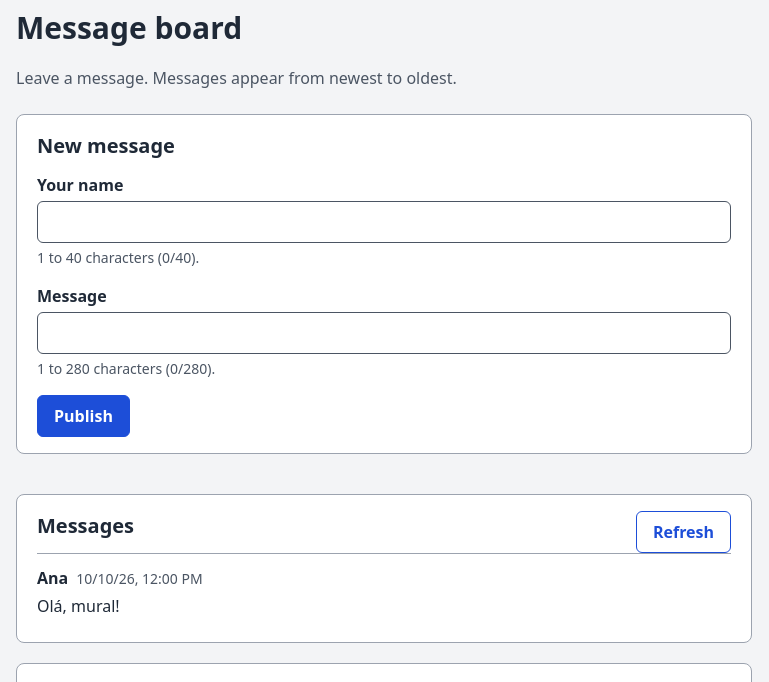
it: App › publishes a message and announces it
In the field labelled "Your name": (384, 222) [37,201,731,243], type "  Caio "
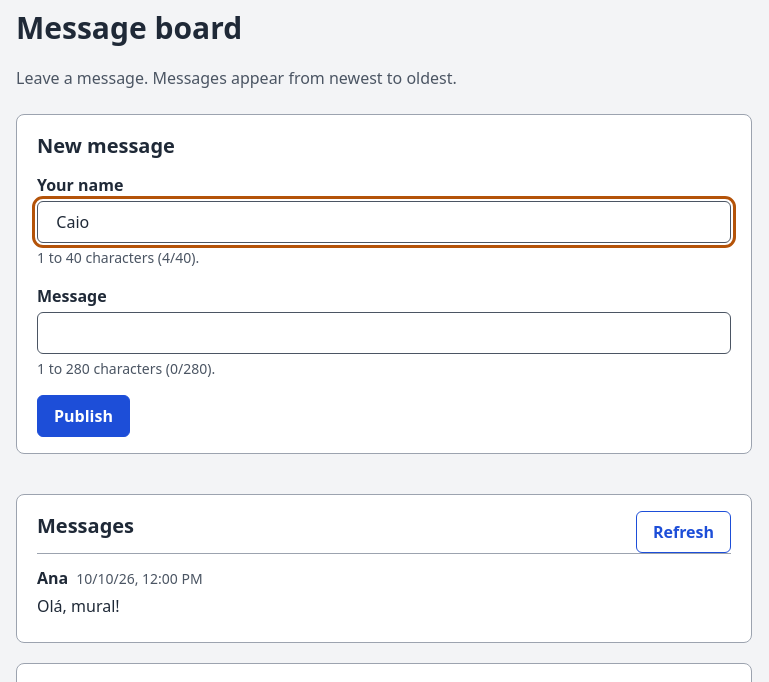
In the field labelled "Message": (384, 333) [37,312,731,354], type "Nova"
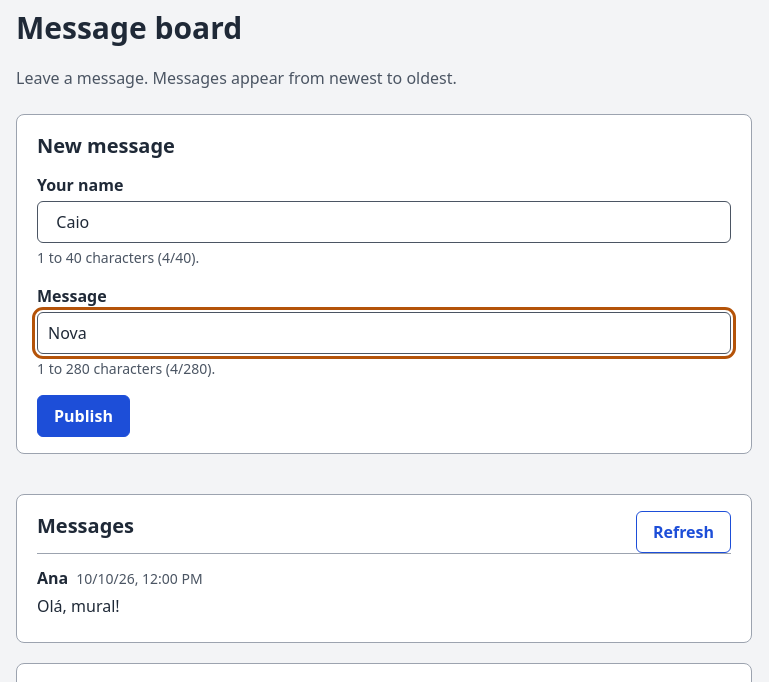
Click the button "Publish": (83, 416) [37,395,130,437]
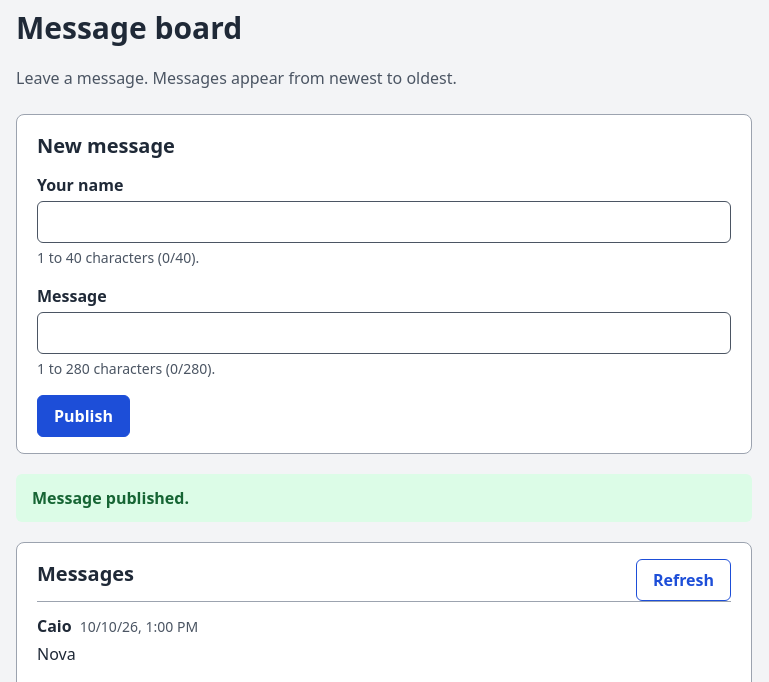
Expected: the message reads "Message published.", [32,487,189,509]
Expected: the text "Caio" is shown, [37,614,72,638]
Expected: the field labelled "Your name" is empty, [37,201,731,243]
